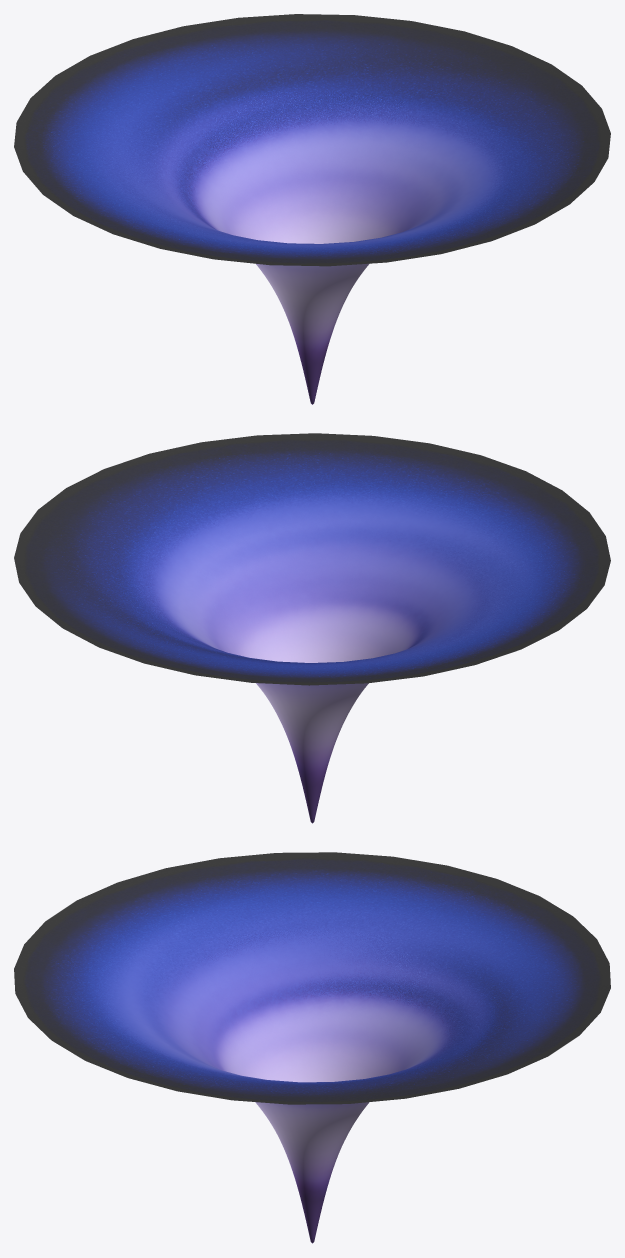
File: Vortex.fbx
The picture shows the model from 3 angles, top to bottom: view 1: azimuth 30°, elevation 25°; view 2: azimuth 150°, elevation 25°; view 3: azimuth 270°, elevation 25°; orthographic projection.
Parts seen in each view (by area): view 1: BaseLayer; view 2: BaseLayer; view 3: BaseLayer.
Part boxes in pixels (left/top/right/bottom): BaseLayer: left=14, top=14, right=610, bottom=404; BaseLayer: left=14, top=433, right=610, bottom=823; BaseLayer: left=14, top=852, right=610, bottom=1243.
Size of the model in its own units: 240 by 117 by 240.
